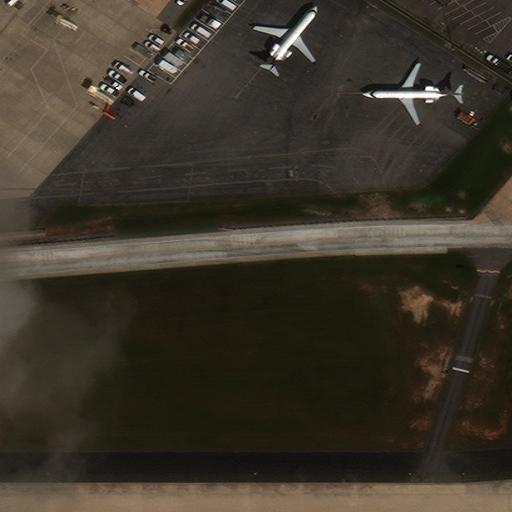Medium Civil Transport: (361, 63, 463, 125), (255, 5, 317, 71)
